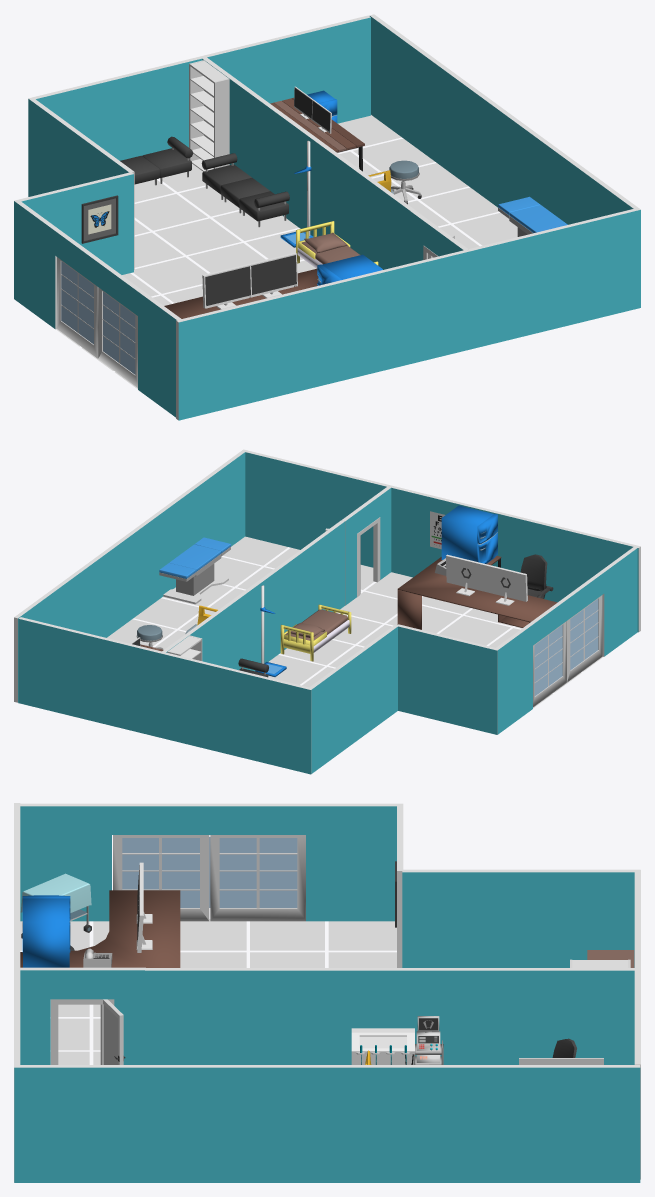
3 renders of one model, top to bottom at view 1: azimuth 30°, elevation 25°; view 2: azimuth 150°, elevation 25°; view 3: azimuth 270°, elevation 25°, orthographic. The views are drawn at different scales.
Visible parts, largest first — view 1: Walls_094.004, floor_014, Walls_094.003, Walls_094.002, Walls_094.005, Walls_096.001, door_028, Walls_094.001, Walls_094, shelf_053, sofa_008.001, sofa_008 (+11 smaller); view 2: Walls_094.002, Walls_094.004, Walls_094.003, floor_014, Walls_094.005, Walls_094, Walls_096.001, Walls_094.001, door_028, office_table_031, kitchen_item_022, hospital_bed_007 (+8 smaller); view 3: Walls_094.003, Walls_094.005, Walls_096.001, Walls_094.001, door_028, floor_014, Walls_096, office_table_031, kitchen_item_022, medical_equipment_015, Walls_094.004, medical_equipment_028.002 (+5 smaller).
Boxes of the visible parts, bbox=[...] form: Walls_094.004: bbox=[176, 208, 640, 420]; floor_014: bbox=[56, 115, 517, 388]; Walls_094.003: bbox=[369, 14, 640, 224]; Walls_094.002: bbox=[28, 15, 370, 160]; Walls_094.005: bbox=[202, 57, 414, 269]; Walls_096.001: bbox=[14, 199, 183, 417]; door_028: bbox=[57, 257, 137, 387]; Walls_094.001: bbox=[28, 97, 134, 269]; Walls_094: bbox=[16, 172, 133, 274]; shelf_053: bbox=[189, 60, 229, 171]; sofa_008.001: bbox=[201, 153, 289, 227]; sofa_008: bbox=[120, 136, 193, 185]; Walls_094.002: bbox=[18, 617, 312, 774]; Walls_094.004: bbox=[244, 450, 640, 632]; Walls_094.003: bbox=[14, 449, 246, 702]; floor_014: bbox=[107, 536, 603, 708]; Walls_094.005: bbox=[162, 520, 344, 671]; Walls_094: bbox=[397, 624, 497, 734]; Walls_096.001: bbox=[494, 545, 639, 734]; Walls_094.001: bbox=[307, 625, 397, 774]; door_028: bbox=[533, 595, 602, 707]; office_table_031: bbox=[397, 556, 557, 629]; kitchen_item_022: bbox=[441, 505, 497, 563]; hospital_bed_007: bbox=[159, 537, 230, 604]; Walls_094.003: bbox=[14, 1065, 640, 1182]; Walls_094.005: bbox=[145, 968, 634, 1064]; Walls_096.001: bbox=[15, 803, 402, 921]; Walls_094.001: bbox=[402, 869, 640, 967]; door_028: bbox=[113, 835, 305, 921]; floor_014: bbox=[20, 919, 396, 1064]; Walls_096: bbox=[18, 967, 145, 1064]; office_table_031: bbox=[20, 890, 180, 967]; kitchen_item_022: bbox=[22, 895, 70, 967]; medical_equipment_015: bbox=[351, 1028, 414, 1064]; Walls_094.004: bbox=[14, 803, 20, 1182]; medical_equipment_028.002: bbox=[20, 873, 91, 938].
Bounding box in the file's own units: 19.71 × 4.02 × 19.74.
Materials: 38 (38 with a texture image).
